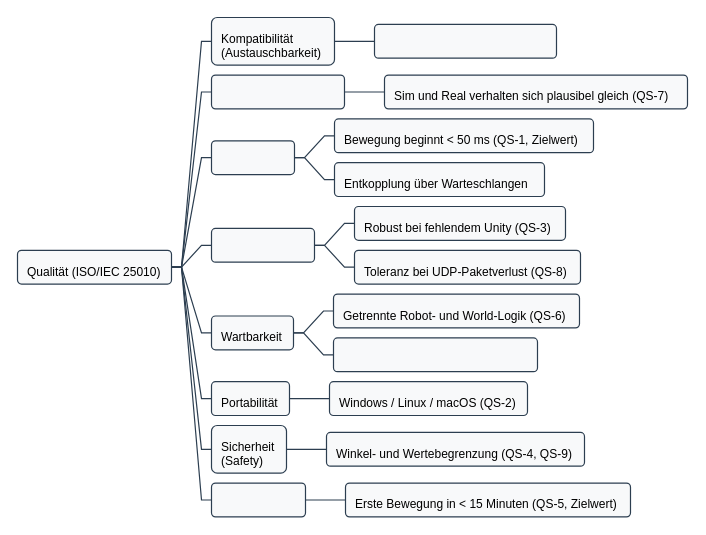
Some shapes in this 706 by 535 pixel diagram are drawn without their labels. Each missing label, with the box of its shape:
Benutzbarkeit: (210, 482, 306, 517)
Einheitliche API Robot / World: (373, 23, 557, 58)
Funktionale Eignung: (210, 74, 345, 109)
Performanz: (210, 140, 295, 175)
Reproduzierbare Presets (QS-10): (332, 337, 538, 372)
Zuverlässigkeit: (210, 227, 315, 262)
